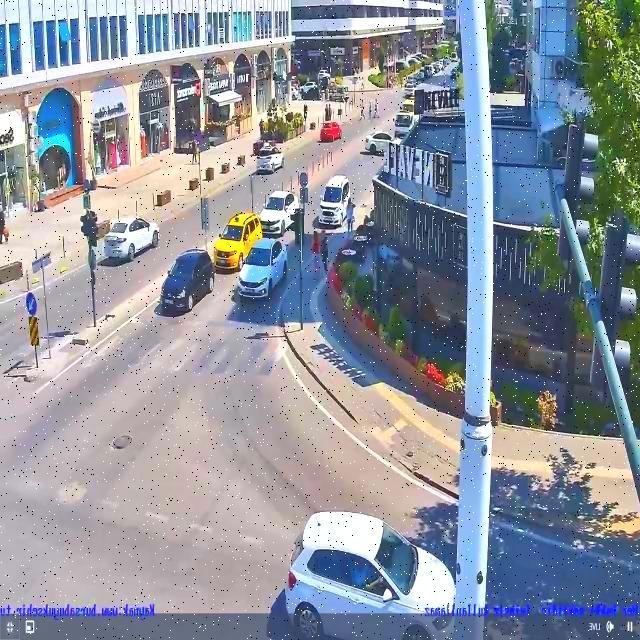Car: (282, 508, 456, 640), (159, 250, 215, 311), (236, 238, 287, 298), (213, 210, 264, 270), (105, 215, 162, 260), (318, 175, 352, 227), (260, 190, 300, 234), (254, 146, 285, 174), (364, 130, 396, 155), (394, 113, 421, 140), (319, 121, 342, 142), (300, 82, 319, 95), (317, 70, 331, 82)
